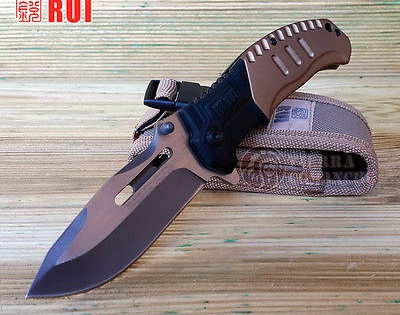knife: (18, 109, 213, 306)
